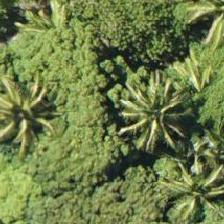coconut_tree: (94, 71, 184, 161), (141, 135, 223, 223), (0, 61, 51, 151)
